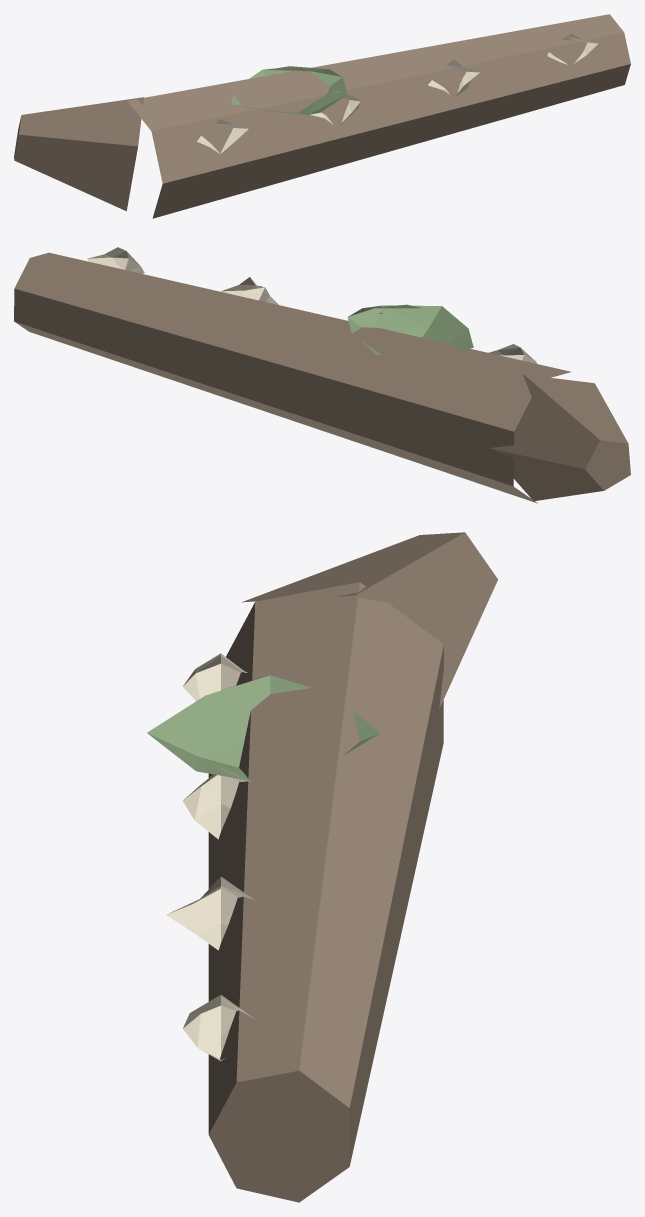
File: log_v02.glb
The picture shows the model from 3 angles, top to bottom: view 1: azimuth 30°, elevation 25°; view 2: azimuth 150°, elevation 25°; view 3: azimuth 270°, elevation 25°; orthographic projection. The views are drawn at different scales.
Visible parts, largest first — view 1: lod0; view 2: lod0; view 3: lod0.
Part boxes in pixels (<box>): lod0: <box>14,14,630,218</box>; lod0: <box>14,247,630,503</box>; lod0: <box>147,532,497,1202</box>.
Size of what is drawn, in the model's own units: 2.95 by 0.6298 by 0.7945.
